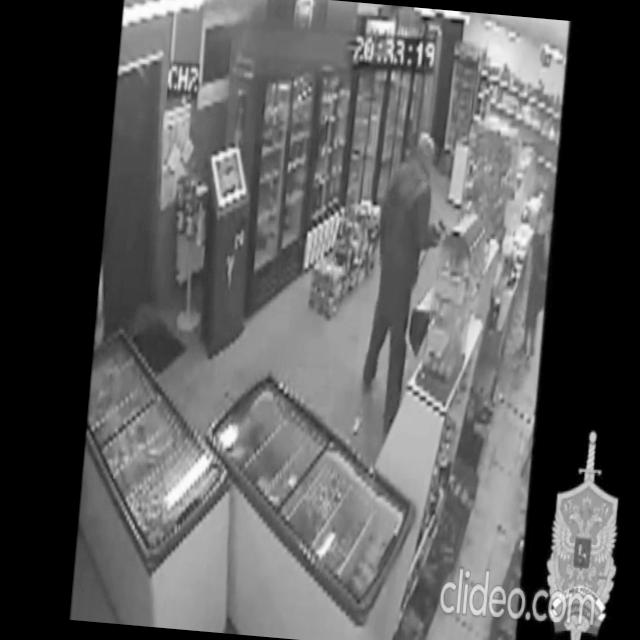gun: (436, 217, 448, 236)
person with a gun: (355, 124, 457, 446)
